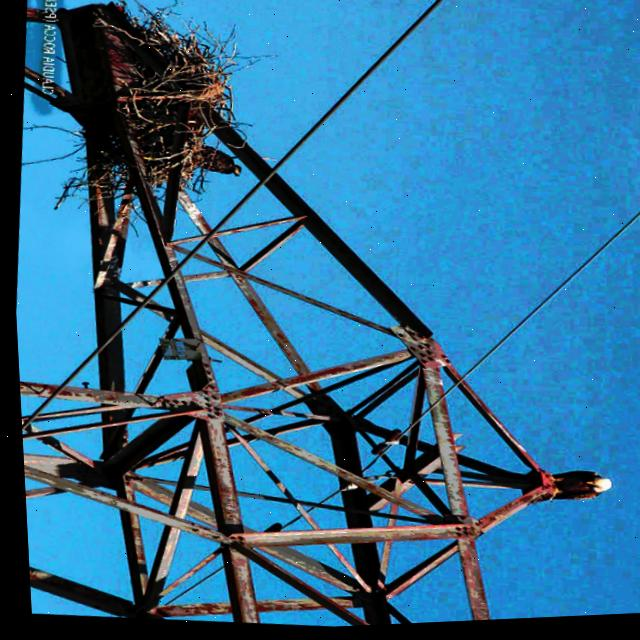obstruction: (76, 4, 238, 193), (44, 88, 133, 197)
poles: (16, 3, 605, 629)
wires: (198, 0, 448, 247), (423, 214, 640, 413)
